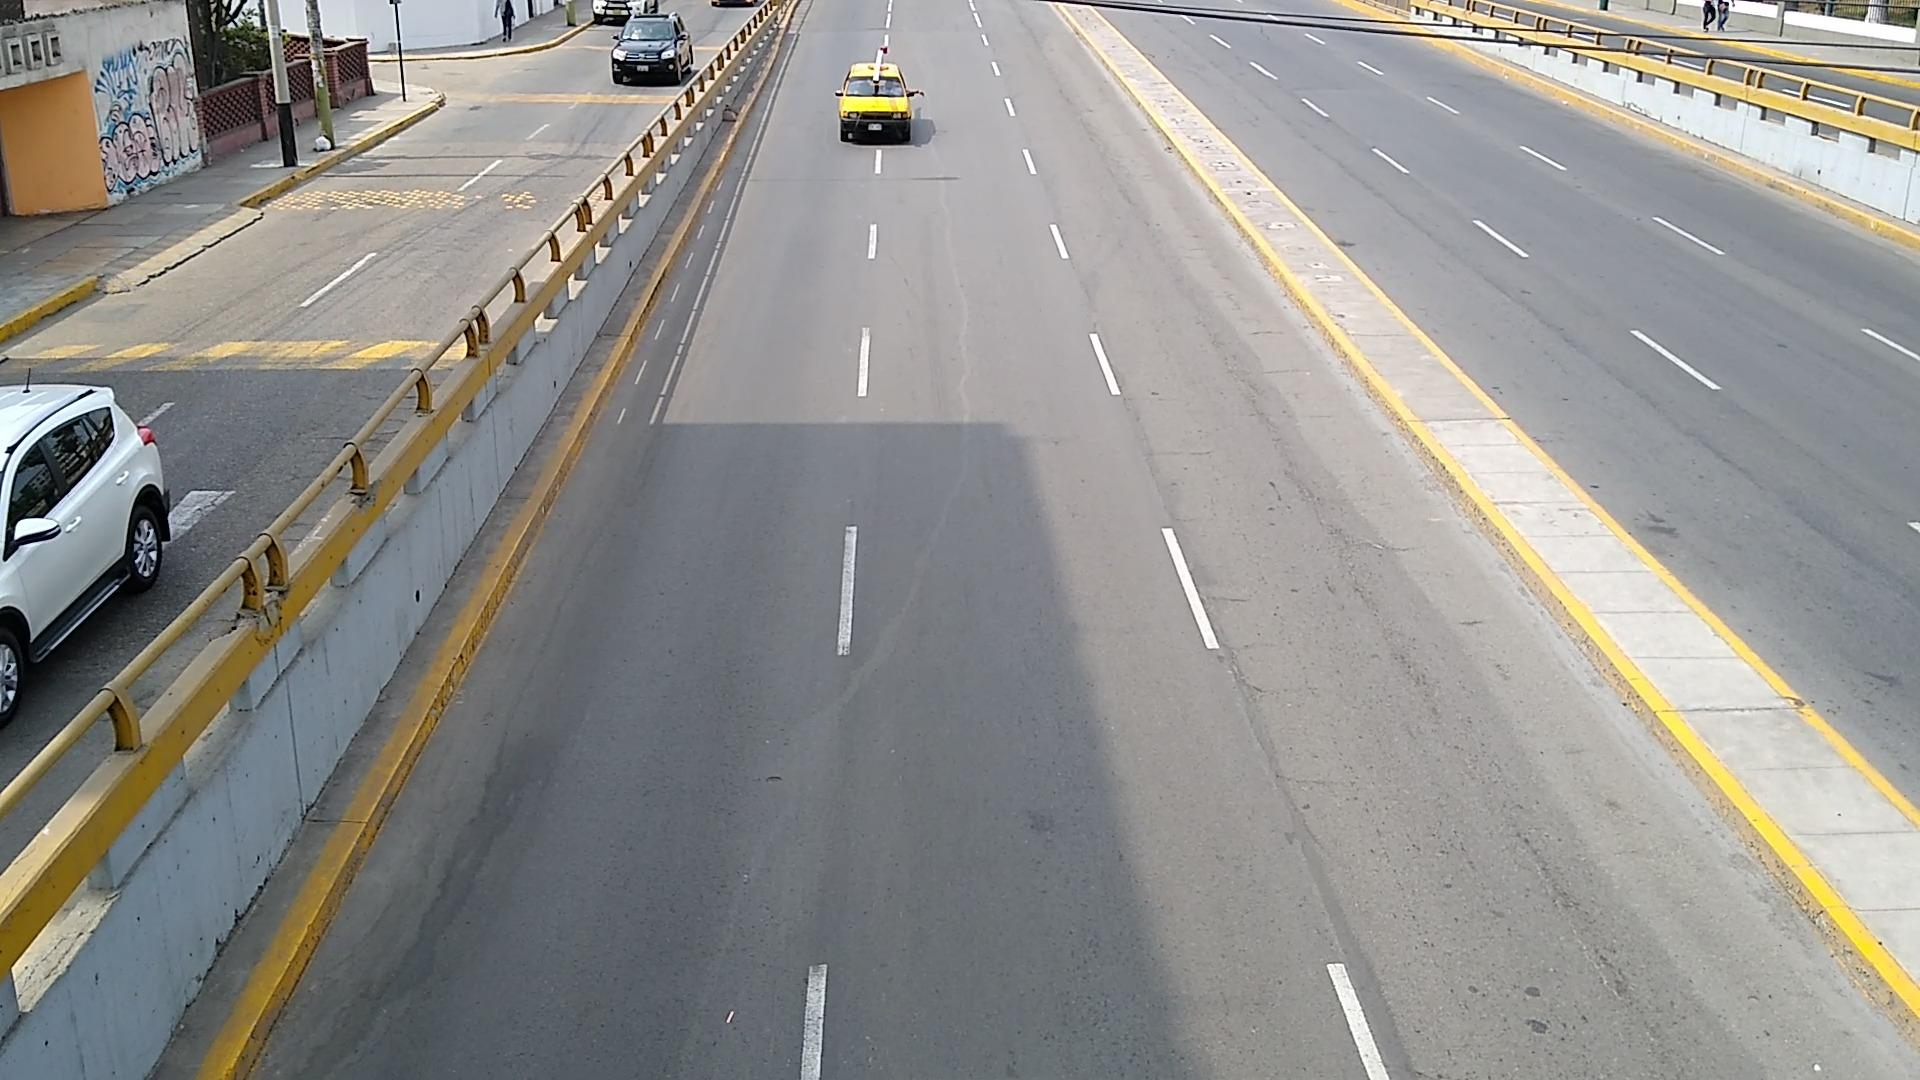car: (0, 386, 169, 721)
